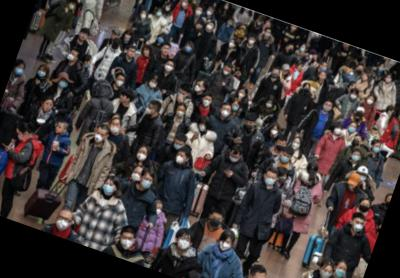mask_weared_incorrect: (108, 121, 122, 136), (271, 69, 281, 80)
with_mask: (53, 214, 72, 233), (117, 234, 136, 253), (175, 235, 193, 253), (100, 181, 117, 198), (207, 214, 224, 231), (217, 238, 234, 254), (139, 175, 154, 191), (92, 130, 107, 145), (263, 173, 278, 188), (351, 219, 366, 234), (56, 77, 71, 91), (135, 148, 149, 163), (130, 169, 144, 184), (66, 50, 80, 64), (174, 152, 188, 166), (358, 201, 372, 215), (333, 265, 348, 278), (13, 64, 26, 78), (319, 267, 335, 278), (276, 174, 289, 187), (14, 131, 28, 143), (220, 106, 232, 119), (228, 153, 241, 165), (276, 140, 288, 153), (36, 67, 48, 79), (175, 107, 187, 119), (291, 139, 303, 151), (280, 153, 292, 165), (357, 172, 369, 184), (350, 152, 362, 164), (351, 137, 363, 149), (172, 141, 185, 152), (372, 143, 383, 156), (163, 63, 175, 74), (176, 90, 188, 101), (144, 105, 155, 117), (202, 96, 213, 108), (244, 120, 255, 132), (85, 58, 95, 71), (205, 22, 216, 33), (323, 103, 334, 114), (139, 12, 150, 22), (115, 77, 125, 88), (147, 80, 158, 90), (194, 83, 204, 94), (154, 206, 164, 217), (237, 90, 247, 101), (198, 122, 208, 133), (348, 124, 358, 135), (68, 1, 78, 11), (222, 68, 232, 78), (230, 103, 240, 113), (265, 100, 275, 110), (270, 128, 280, 138), (355, 110, 365, 120), (184, 44, 193, 54), (334, 127, 343, 137), (111, 42, 120, 51), (247, 38, 256, 47), (228, 41, 237, 50), (321, 64, 330, 73), (302, 86, 311, 95), (356, 67, 365, 76), (350, 93, 359, 102), (156, 9, 164, 19), (250, 274, 269, 278), (164, 4, 172, 13), (195, 9, 204, 17), (157, 36, 166, 44), (264, 31, 272, 40), (348, 183, 357, 191), (385, 198, 392, 208), (124, 33, 132, 41), (206, 9, 214, 17), (287, 47, 295, 55), (311, 56, 319, 64), (342, 43, 350, 51), (367, 98, 375, 106), (228, 20, 235, 28), (290, 25, 298, 32), (351, 85, 358, 93), (372, 131, 379, 139), (385, 77, 393, 84), (379, 65, 386, 73), (257, 20, 264, 27), (300, 45, 306, 53), (309, 54, 314, 61), (225, 4, 230, 10), (240, 28, 246, 33), (238, 63, 243, 69)
without_mask: (40, 100, 54, 114), (78, 30, 90, 43), (54, 123, 66, 136), (126, 48, 137, 59), (161, 46, 171, 57), (141, 48, 151, 58), (119, 93, 128, 103), (281, 69, 290, 77), (111, 32, 119, 40), (319, 74, 327, 82), (195, 23, 202, 31), (297, 65, 304, 72), (363, 74, 370, 81)
